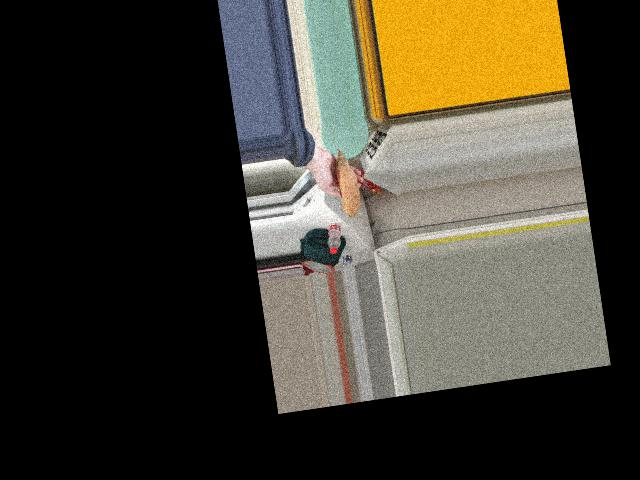sweet_potato: (331, 160, 363, 224)
